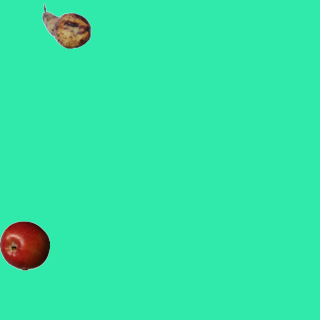Apple Braeburn: (0, 220, 49, 270)
Pear Abate: (41, 1, 91, 51)
